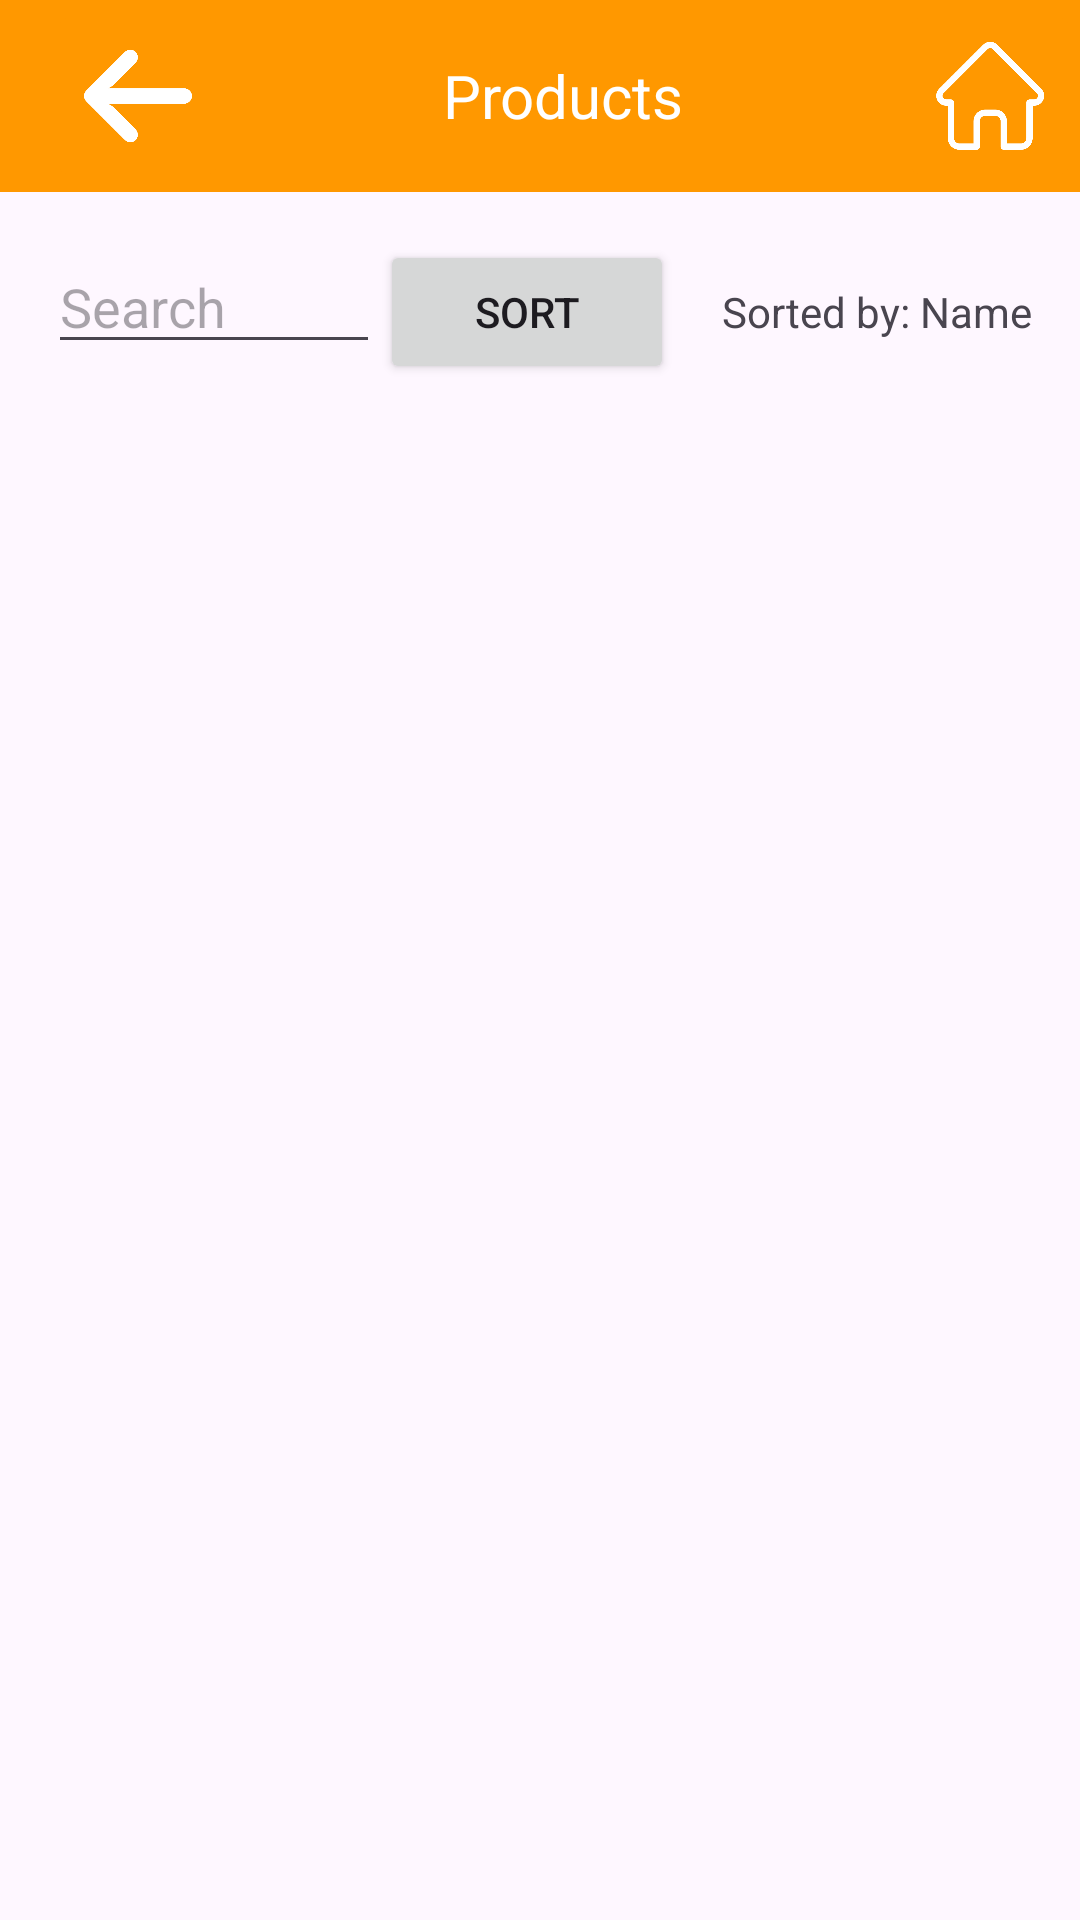

Icon bounding boxes for this 1080px×1920px phone screenshot, format rect(x1, y1, x2, y2):
Atrás: rect(84, 50, 192, 142)
Inicio: rect(936, 42, 1044, 150)
